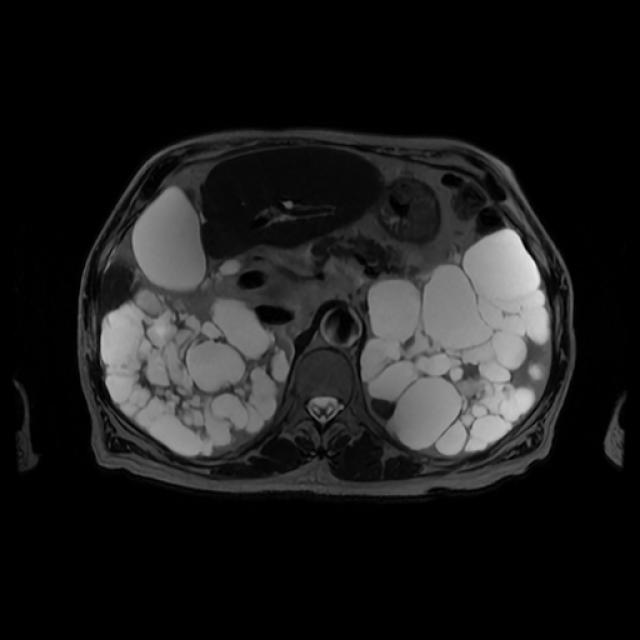sag: (100, 287, 290, 458)
sol: (360, 226, 549, 457)
